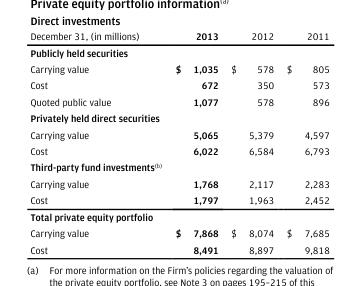table: (29, 29, 328, 254)
table column: (29, 29, 156, 254), (156, 29, 223, 254), (223, 29, 279, 254), (279, 29, 328, 254)
table column header: (29, 29, 328, 43)
table projected row header: (29, 43, 328, 60), (29, 158, 328, 175), (29, 207, 328, 224), (29, 109, 328, 125)
table row: (29, 43, 328, 60), (29, 92, 328, 109), (29, 125, 328, 142), (29, 158, 328, 175), (29, 207, 328, 224), (29, 60, 328, 76), (29, 76, 328, 92), (29, 109, 328, 125), (29, 142, 328, 158), (29, 175, 328, 191), (29, 191, 328, 207), (29, 224, 328, 240), (29, 29, 328, 43), (29, 240, 328, 254)
